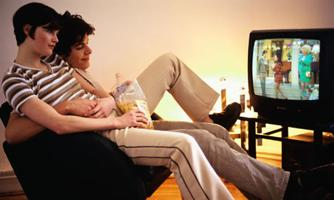person: (1, 4, 236, 200)
